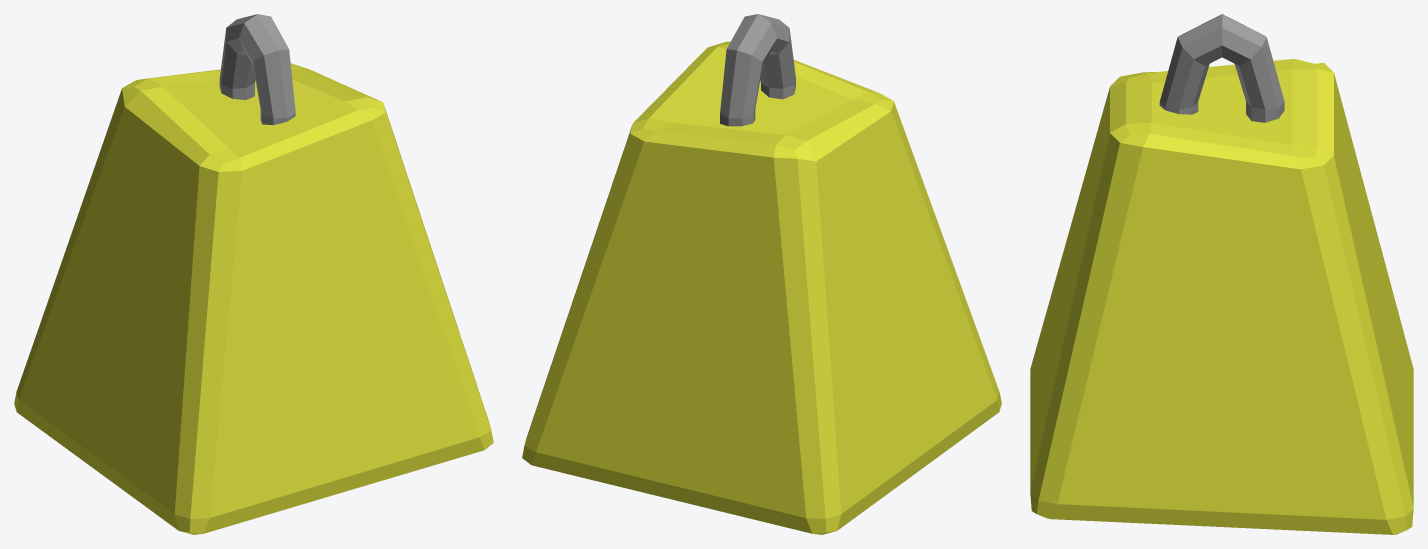
Rendered from Weight.fbx.
3 views of the same model, side by side, from view 1: azimuth 30°, elevation 25°; view 2: azimuth 150°, elevation 25°; view 3: azimuth 270°, elevation 25° (orthographic). The views are drawn at different scales.
Visible parts, largest first — view 1: Weight; view 2: Weight; view 3: Weight.
Boxes of the visible parts, x1,y1,x2,y2 form: Weight: [14, 14, 493, 534]; Weight: [522, 14, 1001, 534]; Weight: [1030, 14, 1413, 534].
Size of the model in its own units: 45.99 by 59.32 by 45.99.
